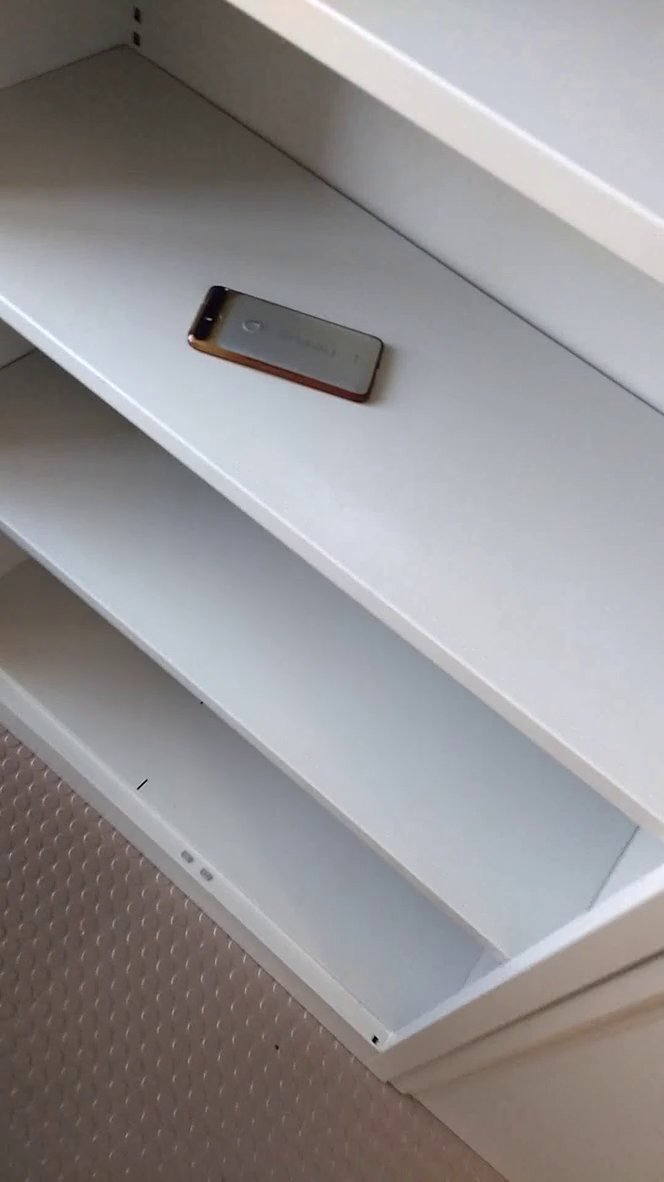phone: (181, 274, 405, 418)
